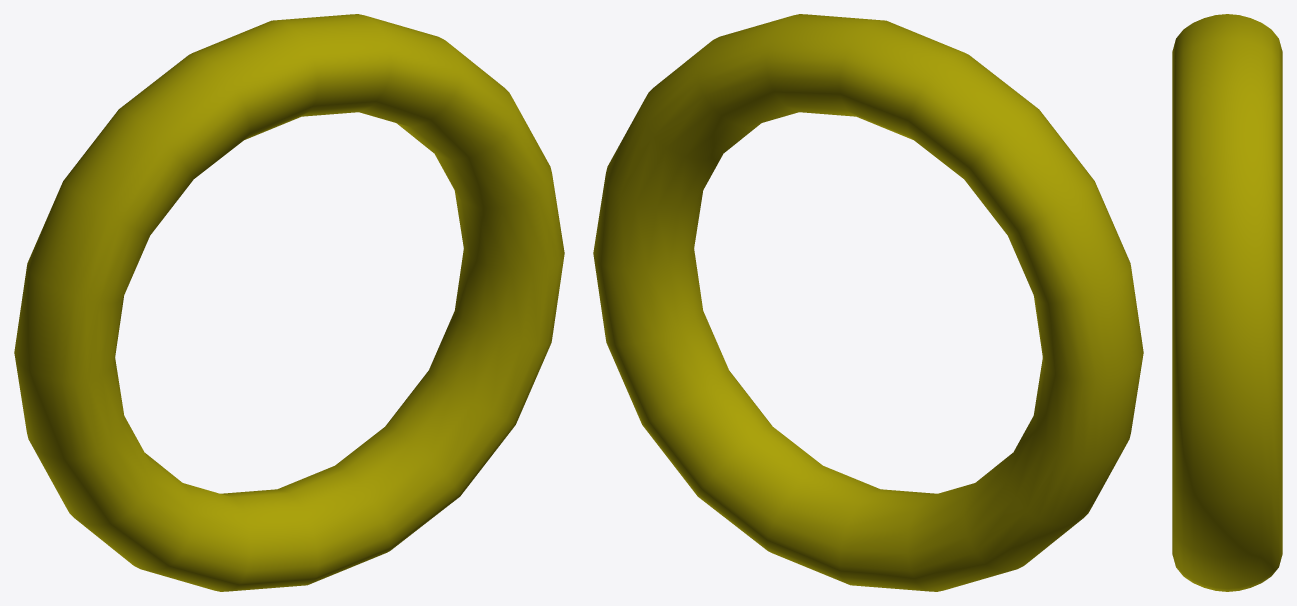
The model's file is Ring2.fbx.
The picture shows the model from 3 angles, left to right: view 1: azimuth 30°, elevation 25°; view 2: azimuth 150°, elevation 25°; view 3: azimuth 270°, elevation 25°; orthographic projection. The views are drawn at different scales.
Visible parts, largest first — view 1: pTorus1; view 2: pTorus1; view 3: pTorus1.
Part boxes in pixels (x1,y1,x2,y2): pTorus1: [14, 14, 564, 591]; pTorus1: [593, 14, 1143, 591]; pTorus1: [1172, 14, 1282, 591].
Size of the model in its own units: 18.22 by 18.22 by 3.45.
